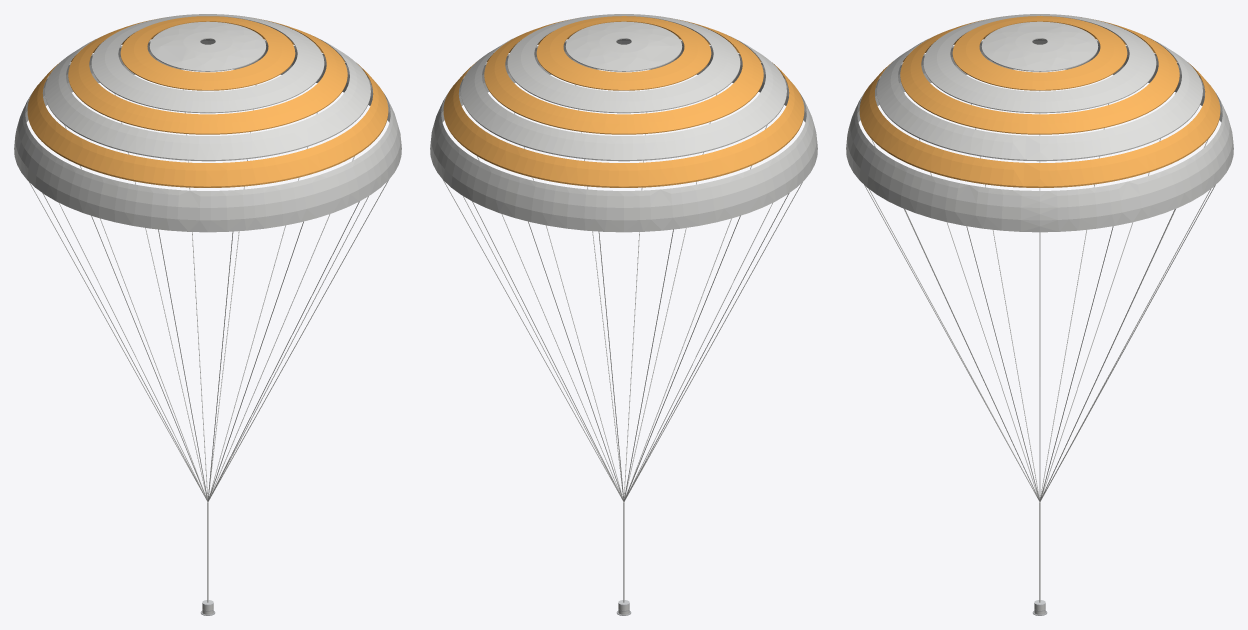
File: stage08_main_chute_s_deployed.glb
3 views of the same model, side by side, from view 1: azimuth 30°, elevation 25°; view 2: azimuth 150°, elevation 25°; view 3: azimuth 270°, elevation 25° (orthographic).
Parts seen in each view (by area): view 1: canopy_ring_6, canopy_ring_5, canopy_ring_4, canopy_ring_3, canopy_ring_2, lines_riser, canopy_ring_1, canopy_ring_0; view 2: canopy_ring_6, canopy_ring_5, canopy_ring_4, canopy_ring_3, canopy_ring_2, lines_riser, canopy_ring_1, canopy_ring_0; view 3: canopy_ring_6, canopy_ring_5, canopy_ring_4, canopy_ring_3, canopy_ring_2, lines_riser, canopy_ring_1, canopy_ring_0.
Part boxes in pixels (x1,y1,x2,y2): canopy_ring_6: (14,39,401,232); canopy_ring_5: (27,30,388,187); canopy_ring_4: (45,38,370,161); canopy_ring_3: (68,19,347,134); canopy_ring_2: (91,14,324,113); lines_riser: (29,84,388,602); canopy_ring_1: (120,16,295,90); canopy_ring_0: (149,21,266,71); canopy_ring_6: (430,39,817,232); canopy_ring_5: (443,30,804,187); canopy_ring_4: (461,38,786,161); canopy_ring_3: (484,17,763,134); canopy_ring_2: (507,14,740,113); lines_riser: (443,84,802,602); canopy_ring_1: (536,16,711,90); canopy_ring_0: (565,21,682,71); canopy_ring_6: (846,39,1233,232); canopy_ring_5: (859,30,1220,187); canopy_ring_4: (877,38,1202,161); canopy_ring_3: (900,17,1179,134); canopy_ring_2: (923,14,1156,113); lines_riser: (864,91,1215,602); canopy_ring_1: (952,16,1127,90); canopy_ring_0: (981,21,1098,71).
Bounding box in the file's own units: 20.99 × 34.13 × 20.99.
